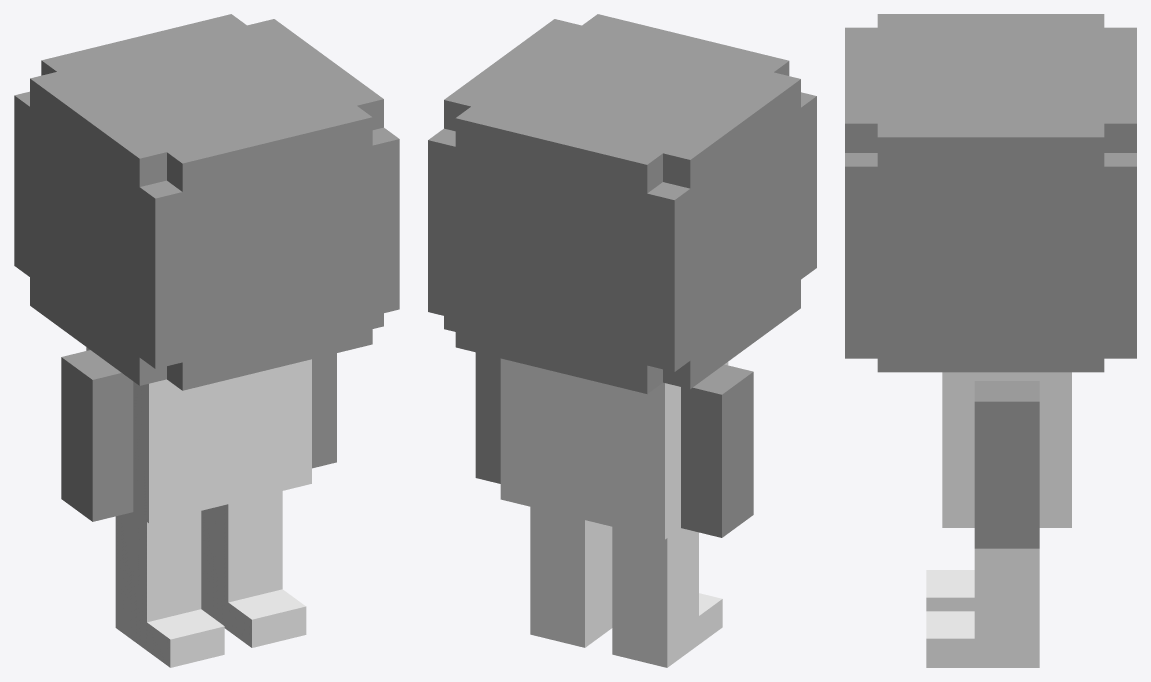
File: NPC.dae
3 views of the same model, side by side, from view 1: azimuth 30°, elevation 25°; view 2: azimuth 150°, elevation 25°; view 3: azimuth 270°, elevation 25° (orthographic). The views are drawn at different scales.
Visible parts, largest first — view 1: NPC; view 2: NPC; view 3: NPC.
Boxes of the visible parts, left/top/right/bottom form: NPC: left=14, top=14, right=399, bottom=667; NPC: left=428, top=14, right=816, bottom=667; NPC: left=845, top=14, right=1136, bottom=667.
Size of the model in its own units: 18 by 38 by 18.
1 material, 1 textured.
